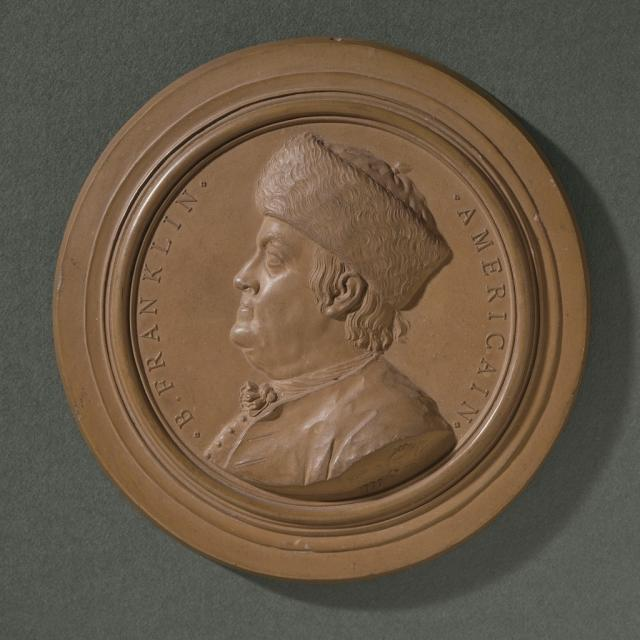Coin: (50, 32, 590, 582)
